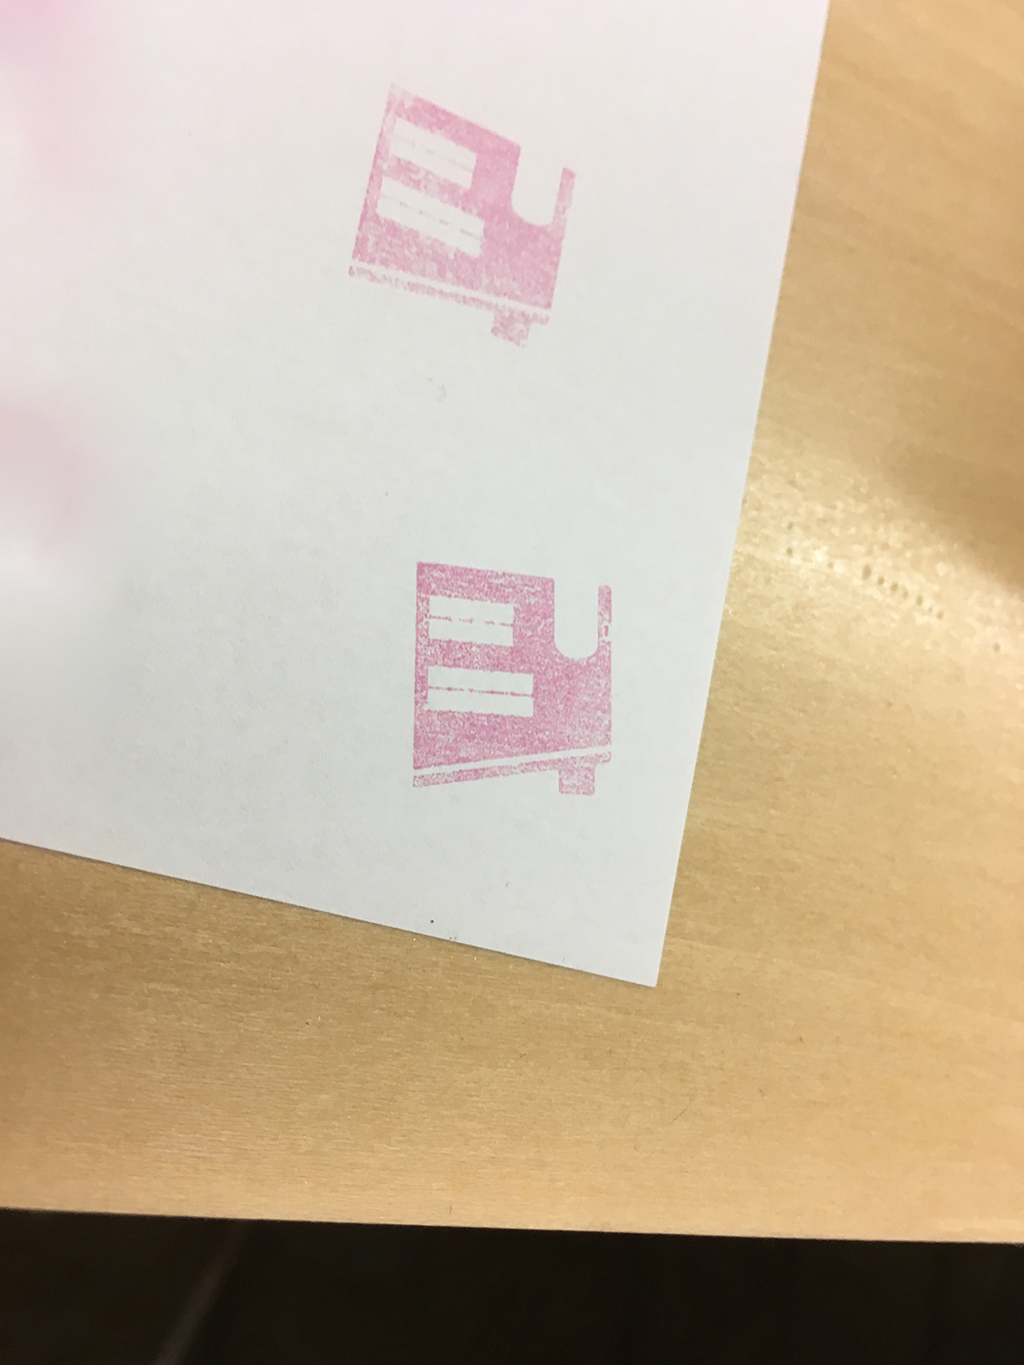house: (332, 62, 591, 359), (392, 544, 632, 820)
